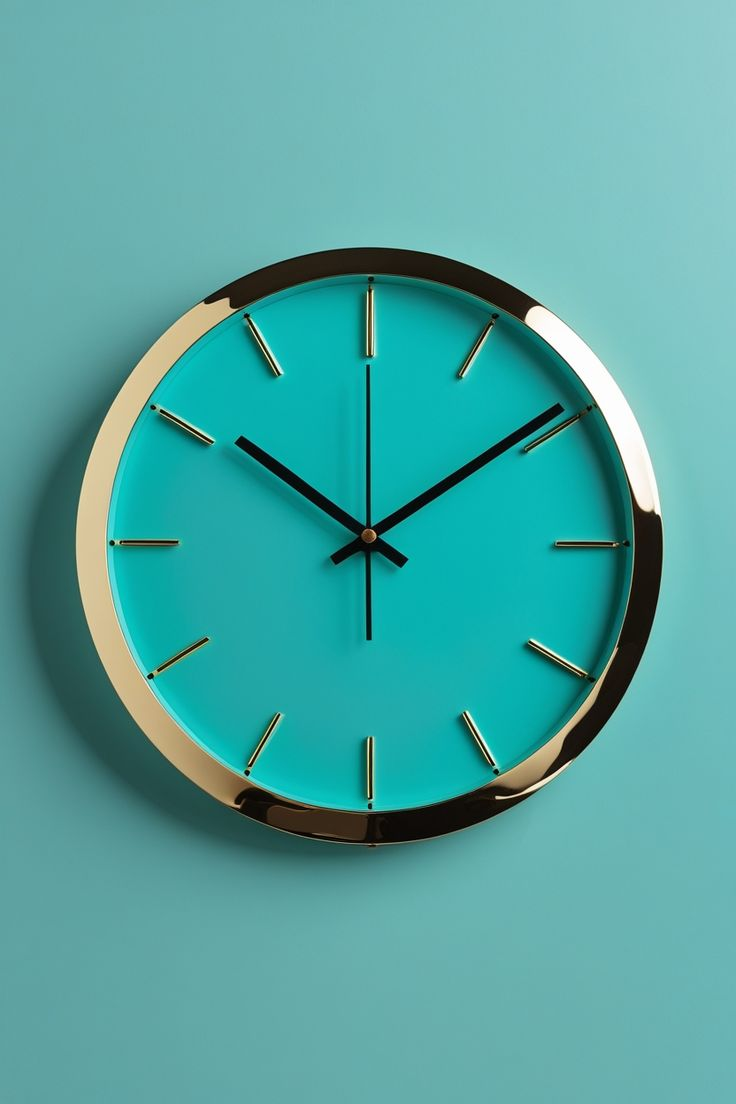clock: (38, 225, 686, 875)
